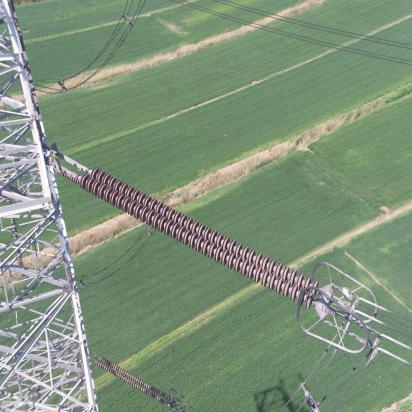insulator: (64, 163, 324, 312)
